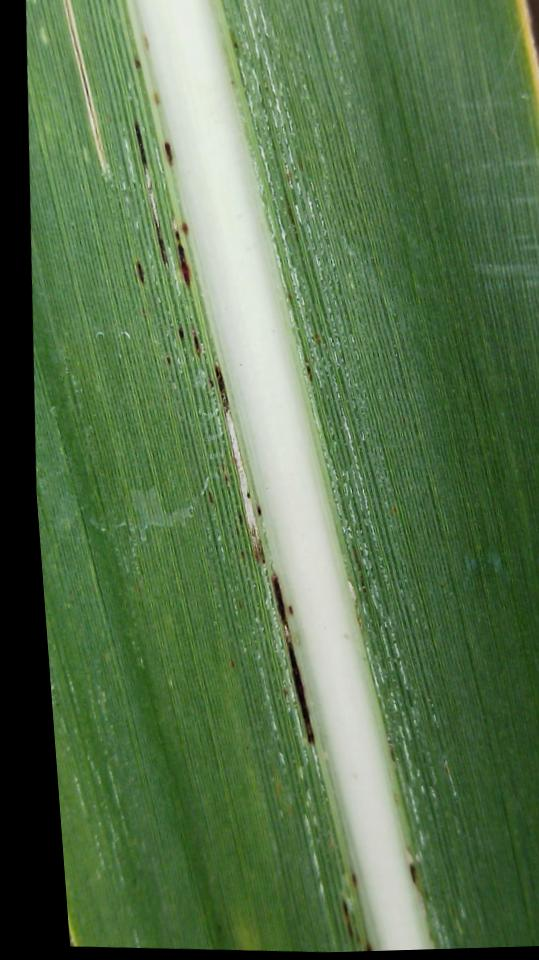Rust: (267, 569, 322, 750), (129, 117, 169, 269), (164, 213, 194, 289), (206, 354, 235, 414), (338, 899, 355, 939), (185, 324, 203, 359), (159, 139, 175, 170), (131, 257, 146, 285), (404, 862, 421, 884), (129, 56, 142, 72), (347, 872, 359, 889), (174, 323, 184, 341), (361, 937, 372, 951), (253, 504, 263, 518)
